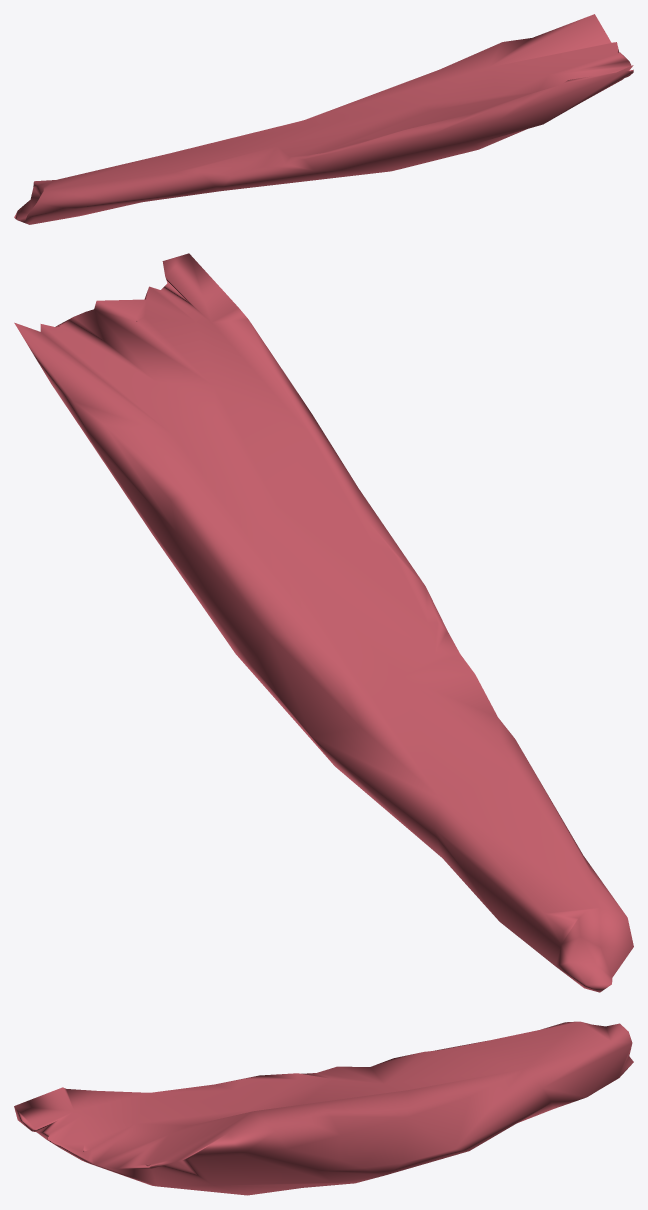
3 renders of one model, top to bottom at view 1: azimuth 30°, elevation 25°; view 2: azimuth 150°, elevation 25°; view 3: azimuth 270°, elevation 25°, orthographic. The views are drawn at different scales.
Visible parts, largest first — view 1: 右侧拇短屈肌浅头; view 2: 右侧拇短屈肌浅头; view 3: 右侧拇短屈肌浅头.
Boxes of the visible parts, left/top/right/bottom form: 右侧拇短屈肌浅头: left=14, top=14, right=633, bottom=224; 右侧拇短屈肌浅头: left=14, top=253, right=633, bottom=992; 右侧拇短屈肌浅头: left=14, top=1021, right=633, bottom=1195.
Size of the model in its own units: 0.064 by 0.0244 by 0.0455.
